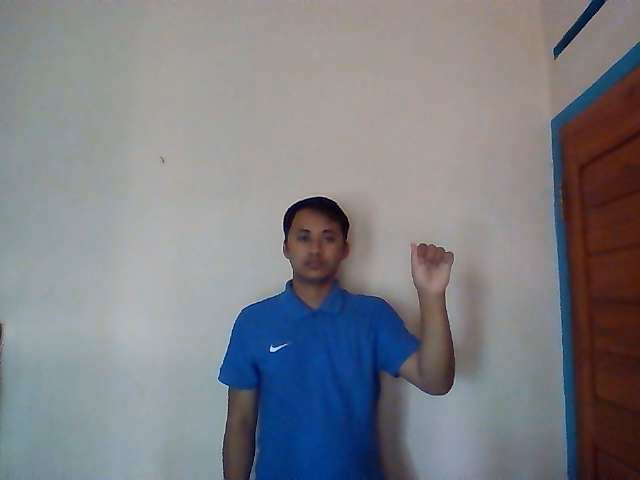A: (408, 240, 455, 293)
